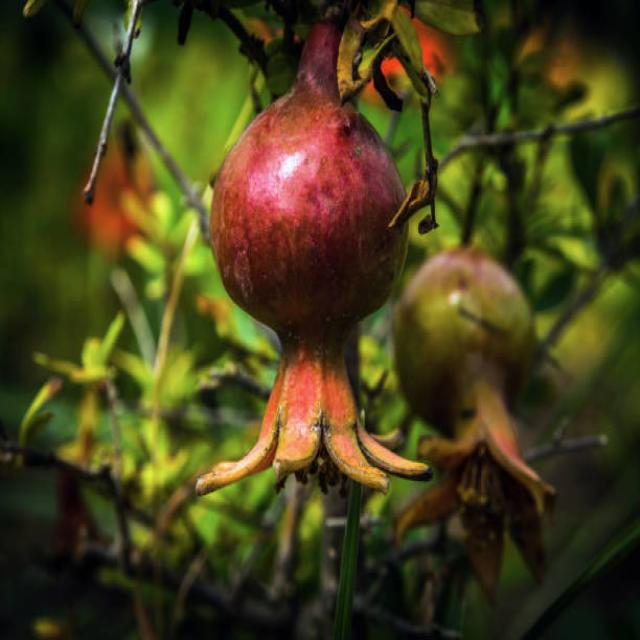Pomegranate: (194, 24, 436, 498)
